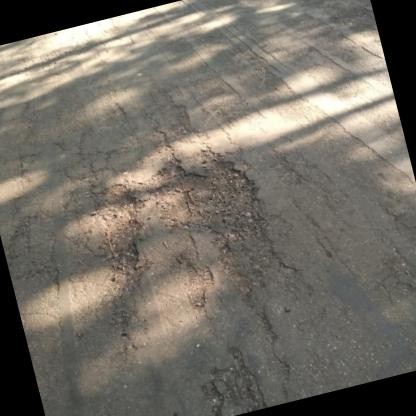pothole: (135, 136, 270, 258), (84, 178, 156, 287)
